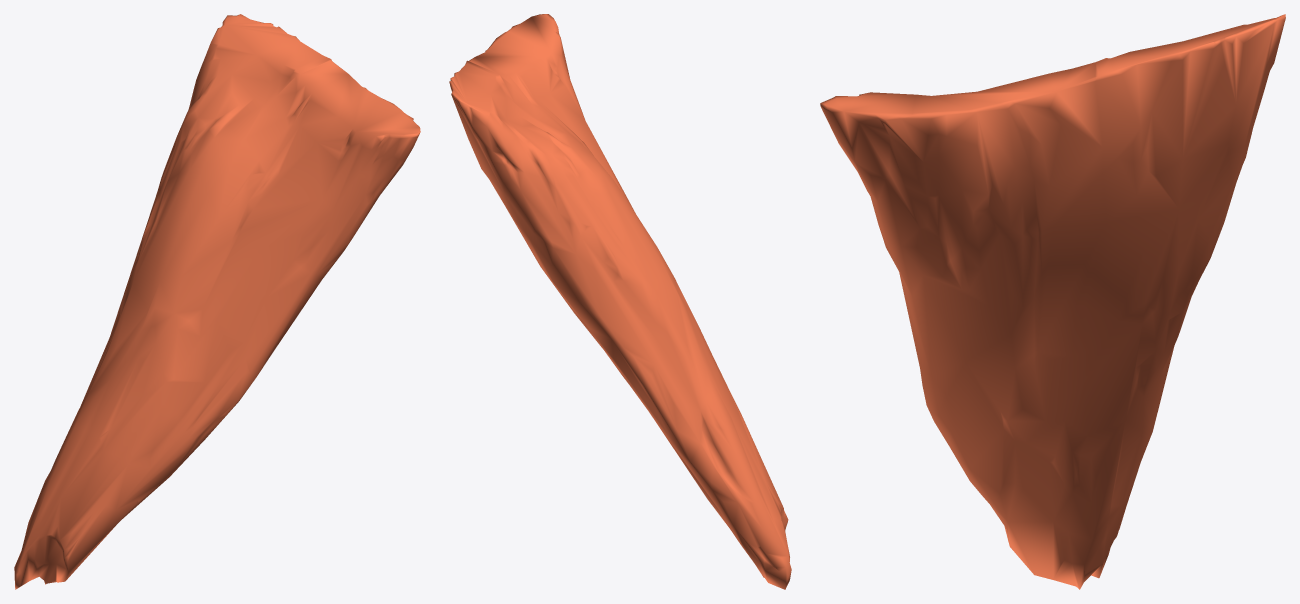
Rendered from Rectus_capitis_posterior_major_left.glb.
3 views of the same model, side by side, from view 1: azimuth 30°, elevation 25°; view 2: azimuth 150°, elevation 25°; view 3: azimuth 270°, elevation 25° (orthographic). The views are drawn at different scales.
Parts seen in each view (by area): view 1: Rectus_posterior_major_capitis_muscle.l_Generated_Mesh_From_; view 2: Rectus_posterior_major_capitis_muscle.l_Generated_Mesh_From_; view 3: Rectus_posterior_major_capitis_muscle.l_Generated_Mesh_From_.
Boxes of the visible parts, x1=… form: Rectus_posterior_major_capitis_muscle.l_Generated_Mesh_From_: x1=14, y1=14, x2=420, y2=589; Rectus_posterior_major_capitis_muscle.l_Generated_Mesh_From_: x1=449, y1=14, x2=791, y2=589; Rectus_posterior_major_capitis_muscle.l_Generated_Mesh_From_: x1=820, y1=14, x2=1285, y2=589.
Size of the model in its own units: 0.0353 by 0.0467 by 0.0253.
